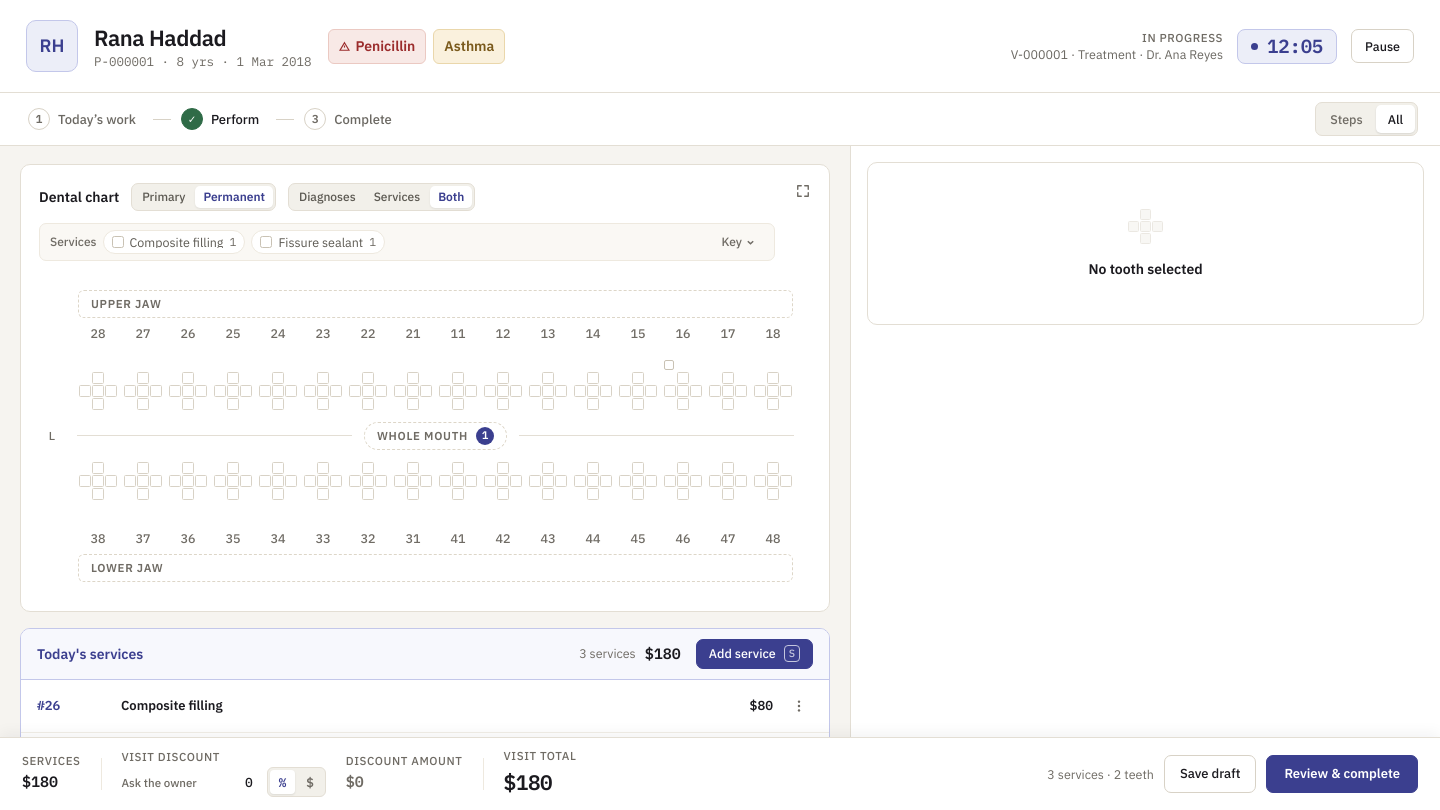
Scenario: VisitSummaryDialog › shows the visit to review: meta tiles, the teeth in FDI order, services, notes
Expected: the element named "Upper arch" is shown, [78, 324, 793, 411]
Click the button "Review & complete". click: (1342, 774)
box: [1266, 755, 1418, 793]
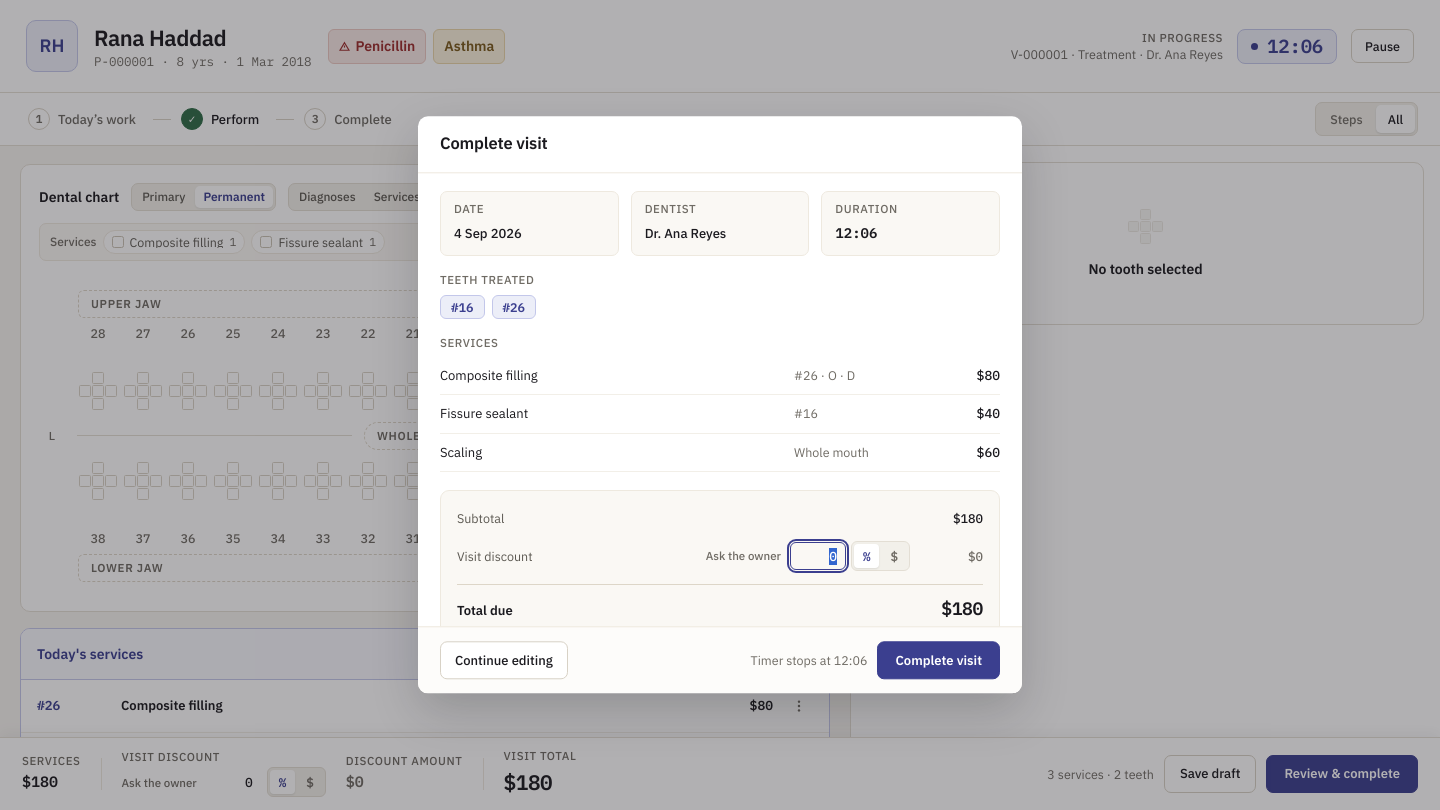
Expected: the text "4 Sep 2026" is shown, [454, 226, 522, 243]
Expected: the text "Dr. Ana Reyes" is shown, [645, 226, 726, 243]
Expected: the text "Timer stops at 12:06" is shown, [751, 654, 868, 667]
